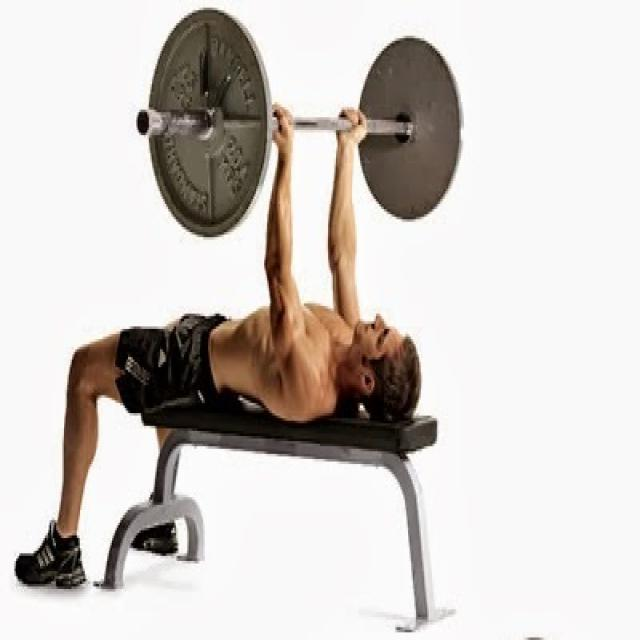bench: (12, 0, 474, 640)
